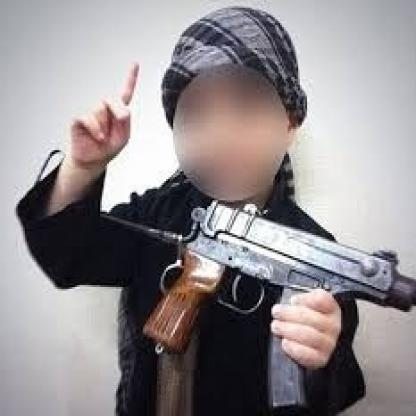Pistol: (107, 166, 404, 412)
